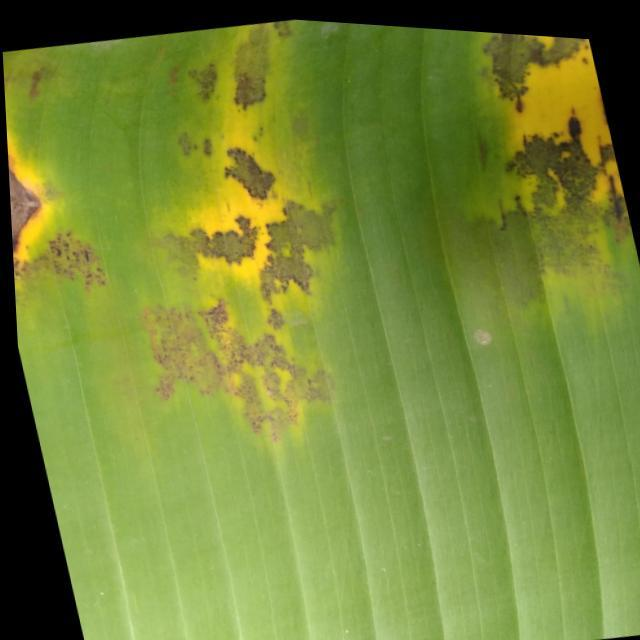Early_rust: (0, 18, 640, 448)
